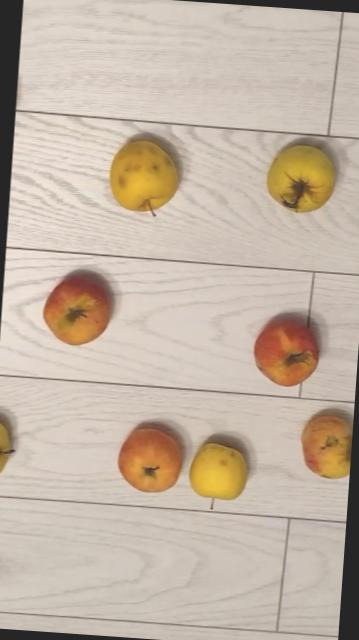apple_green: (107, 137, 180, 219), (263, 142, 337, 215), (186, 439, 248, 506), (0, 419, 14, 481)
apple_red: (40, 272, 113, 347), (250, 316, 321, 388), (114, 424, 184, 493), (296, 412, 352, 478)
